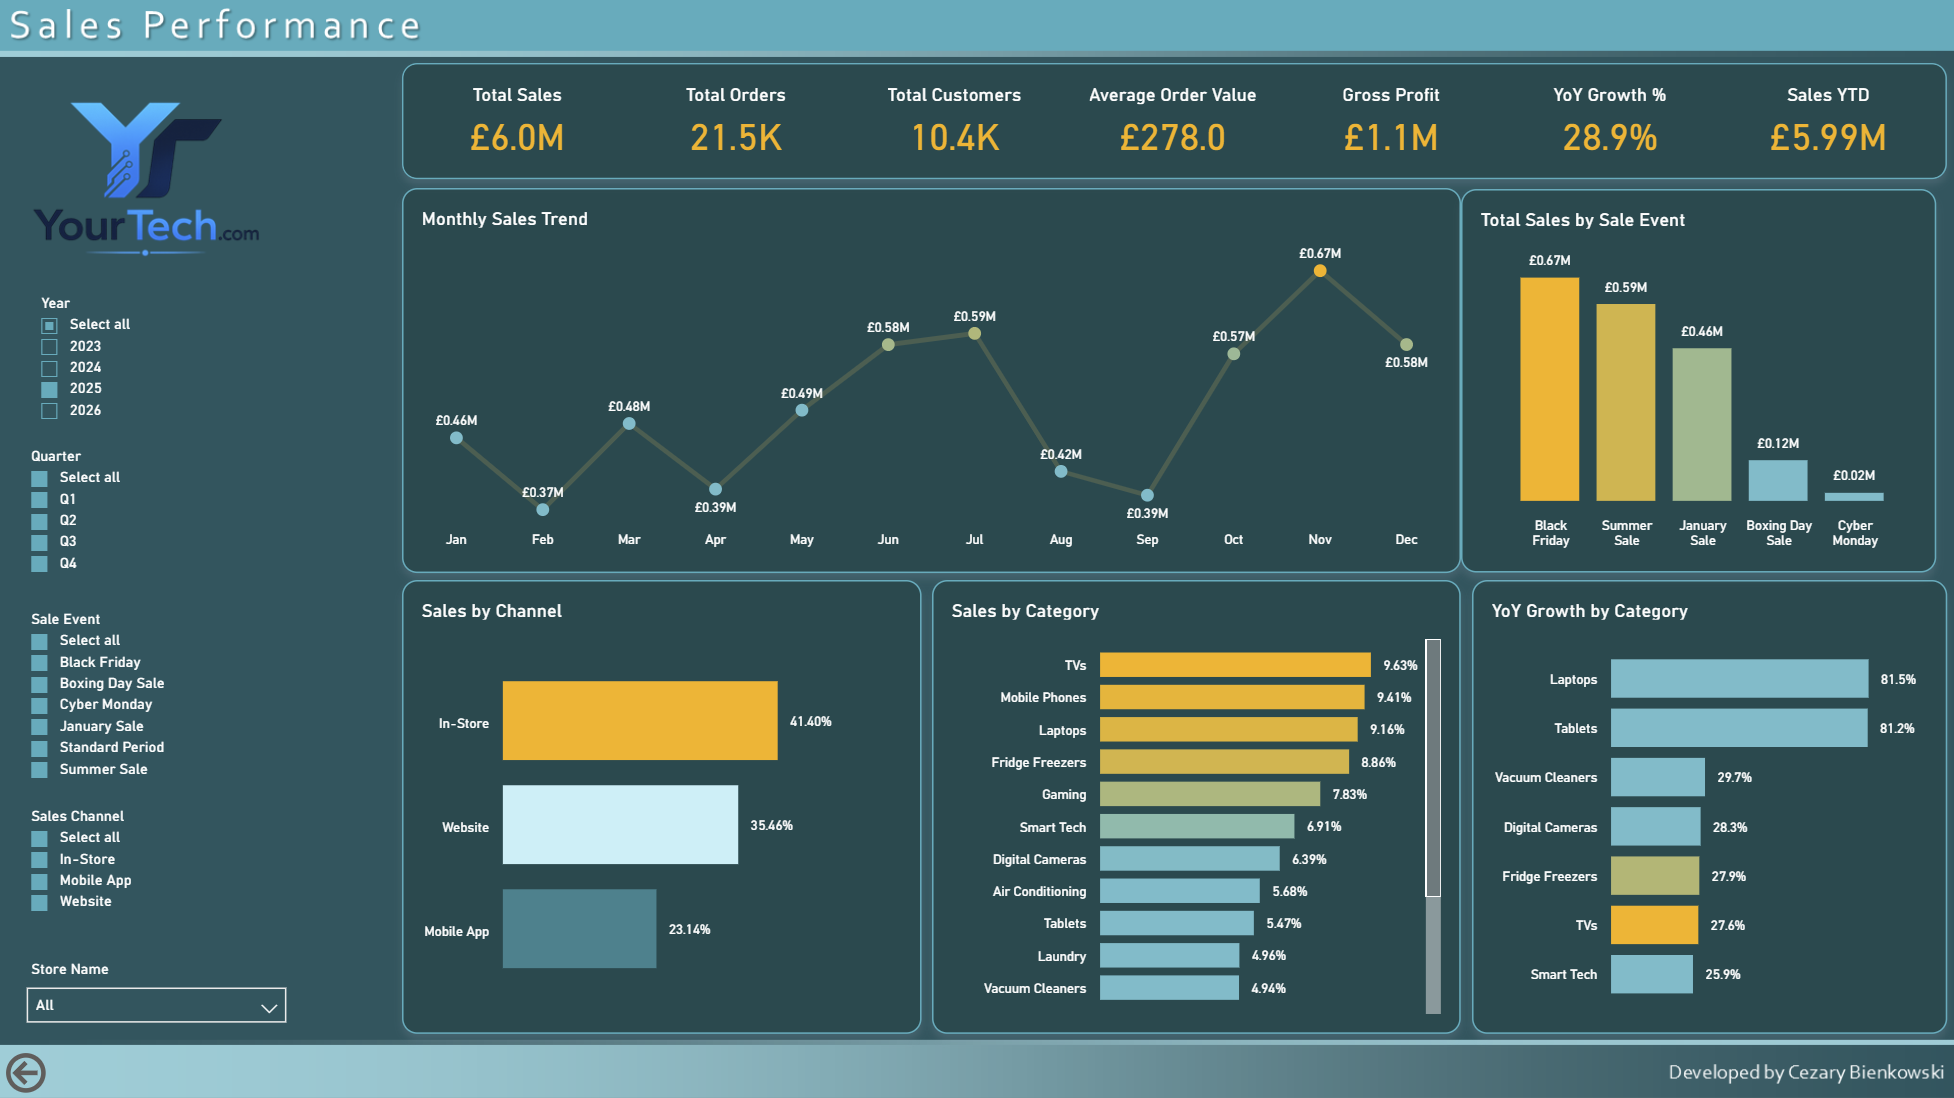

This screenshot's page, from the dashboard's own definition file:
{"tool":"powerbi","page":{"name":"Sales Performance","canvas":[1280,720],"ordinal":1},"visuals":[{"type":"lineChart","title":"Monthly Sales Trend","fields":{"Y":["Sales.Total Sales"],"Category":["dDate.Year","dDate.Quarter","dDate.Month"]},"box":[263.9,123.3,693,251.7],"z":0},{"type":"barChart","title":"Sales by Channel","fields":{"Category":["fSales.Sales_Channel"],"Y":["_Measures.Total Sales"]},"box":[263.7,379.6,339.6,297.1],"z":1000},{"type":"barChart","title":"Sales by Category","fields":{"Category":["Products.Product_Category"],"Y":["Sales.Total Sales"]},"box":[610.6,379.6,346.2,297.1],"z":2000},{"type":"tableEx","title":"Top 10 Products","fields":{"Values":["Products.Product_Name","Sales.Total Sales"]},"box":[963.9,379.6,310.8,297.1],"z":3000},{"type":"clusteredColumnChart","fields":{"Y":["_Measures.Total Sales"],"Category":["dSale Event.Sale_Event_Name"]},"box":[963.8,123.5,310.9,251.1],"z":4000},{"type":"actionButton","box":[0,684.3,100.2,35.2],"z":5000},{"type":"cardVisual","fields":{"Data":["_Measures.Total Sales","_Measures.Total Orders","_Measures.Total Customers","_Measures.Average Order Value","_Measures.Gross Profit","_Measures.YoY Growth %","_Measures.Sales YTD"]},"box":[263.9,41.1,1011,76.4],"z":6000},{"type":"slicer","fields":{"Values":["dDate.Year"]},"box":[13,192.5,179.6,89.4],"z":7000},{"type":"slicer","fields":{"Values":["dDate.Quarter"]},"box":[13,292.8,179.6,95.9],"z":8000},{"type":"slicer","fields":{"Values":["dSale Event.Sale_Event_Name"]},"box":[13,399.5,179.6,117.5],"z":10000},{"type":"slicer","fields":{"Values":["dStores.Store Name"]},"box":[13,628.1,180.3,42.5],"z":13000},{"type":"slicer","fields":{"Values":["fSales.Sales Channel"]},"box":[13,527.9,180.3,79.3],"z":14000}]}

Visuals, with their boxes in screenshot pixels (x1, y1, x2, y2), scaled from the page's 1280x720 canvas onto the 1954x1098 screenshot:
"Monthly Sales Trend" lineChart: bbox=[403, 188, 1461, 572]
"Sales by Channel" barChart: bbox=[403, 579, 921, 1032]
"Sales by Category" barChart: bbox=[932, 579, 1461, 1032]
"Top 10 Products" tableEx: bbox=[1471, 579, 1946, 1032]
clusteredColumnChart - _Measures.Total Sales x dSale Event.Sale_Event_Name: bbox=[1471, 188, 1946, 571]
actionButton: bbox=[0, 1044, 153, 1097]
cardVisual - _Measures.Total Sales x _Measures.Total Orders: bbox=[403, 63, 1946, 179]
slicer - dDate.Year: bbox=[20, 294, 294, 430]
slicer - dDate.Quarter: bbox=[20, 447, 294, 593]
slicer - dSale Event.Sale_Event_Name: bbox=[20, 609, 294, 788]
slicer - dStores.Store Name: bbox=[20, 958, 295, 1023]
slicer - fSales.Sales Channel: bbox=[20, 805, 295, 926]
